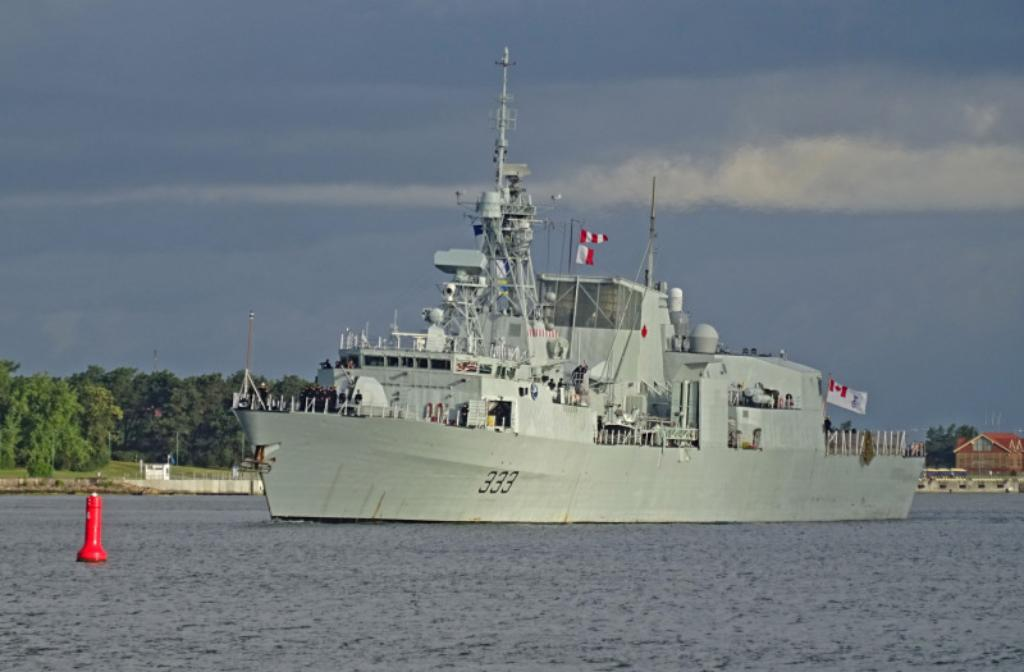Warship: (225, 38, 925, 534)
